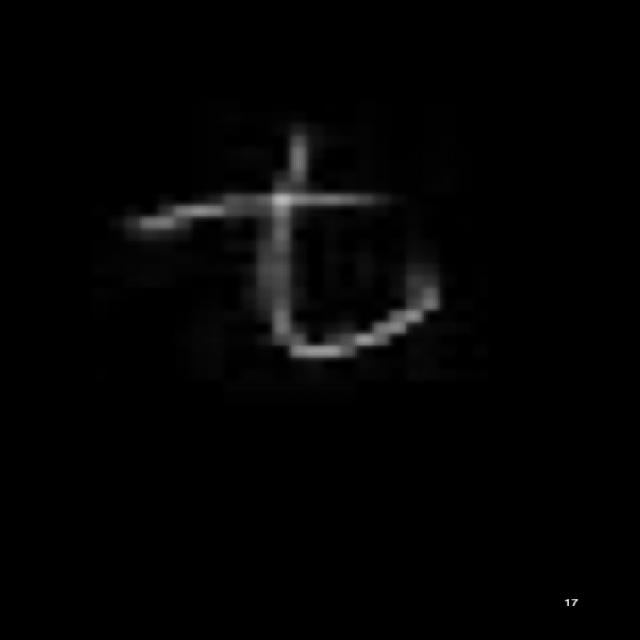7 -seven-: (124, 123, 453, 362)
